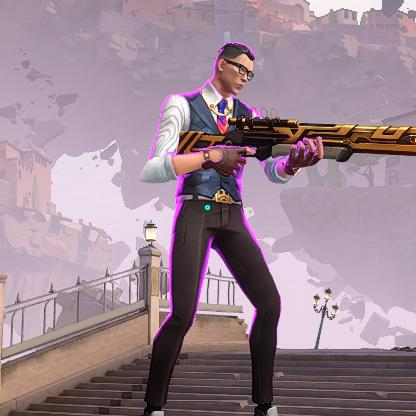enemyBody: (187, 108, 247, 204)
enemyHead: (225, 58, 246, 91)
